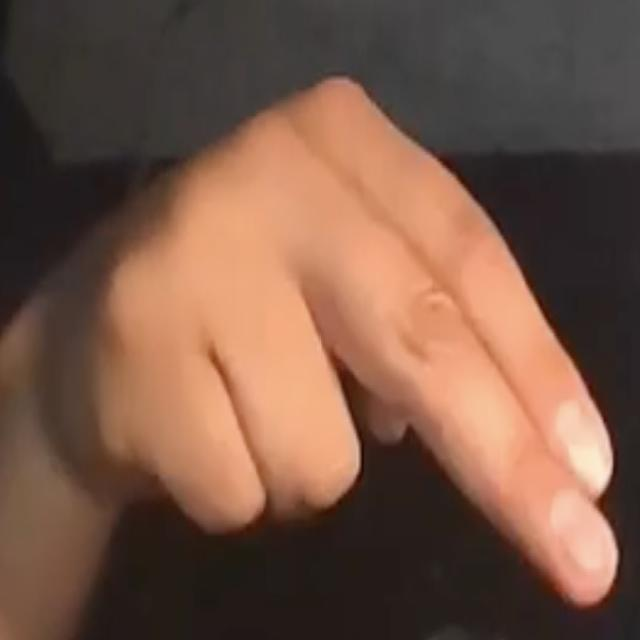N: (58, 56, 628, 614)
